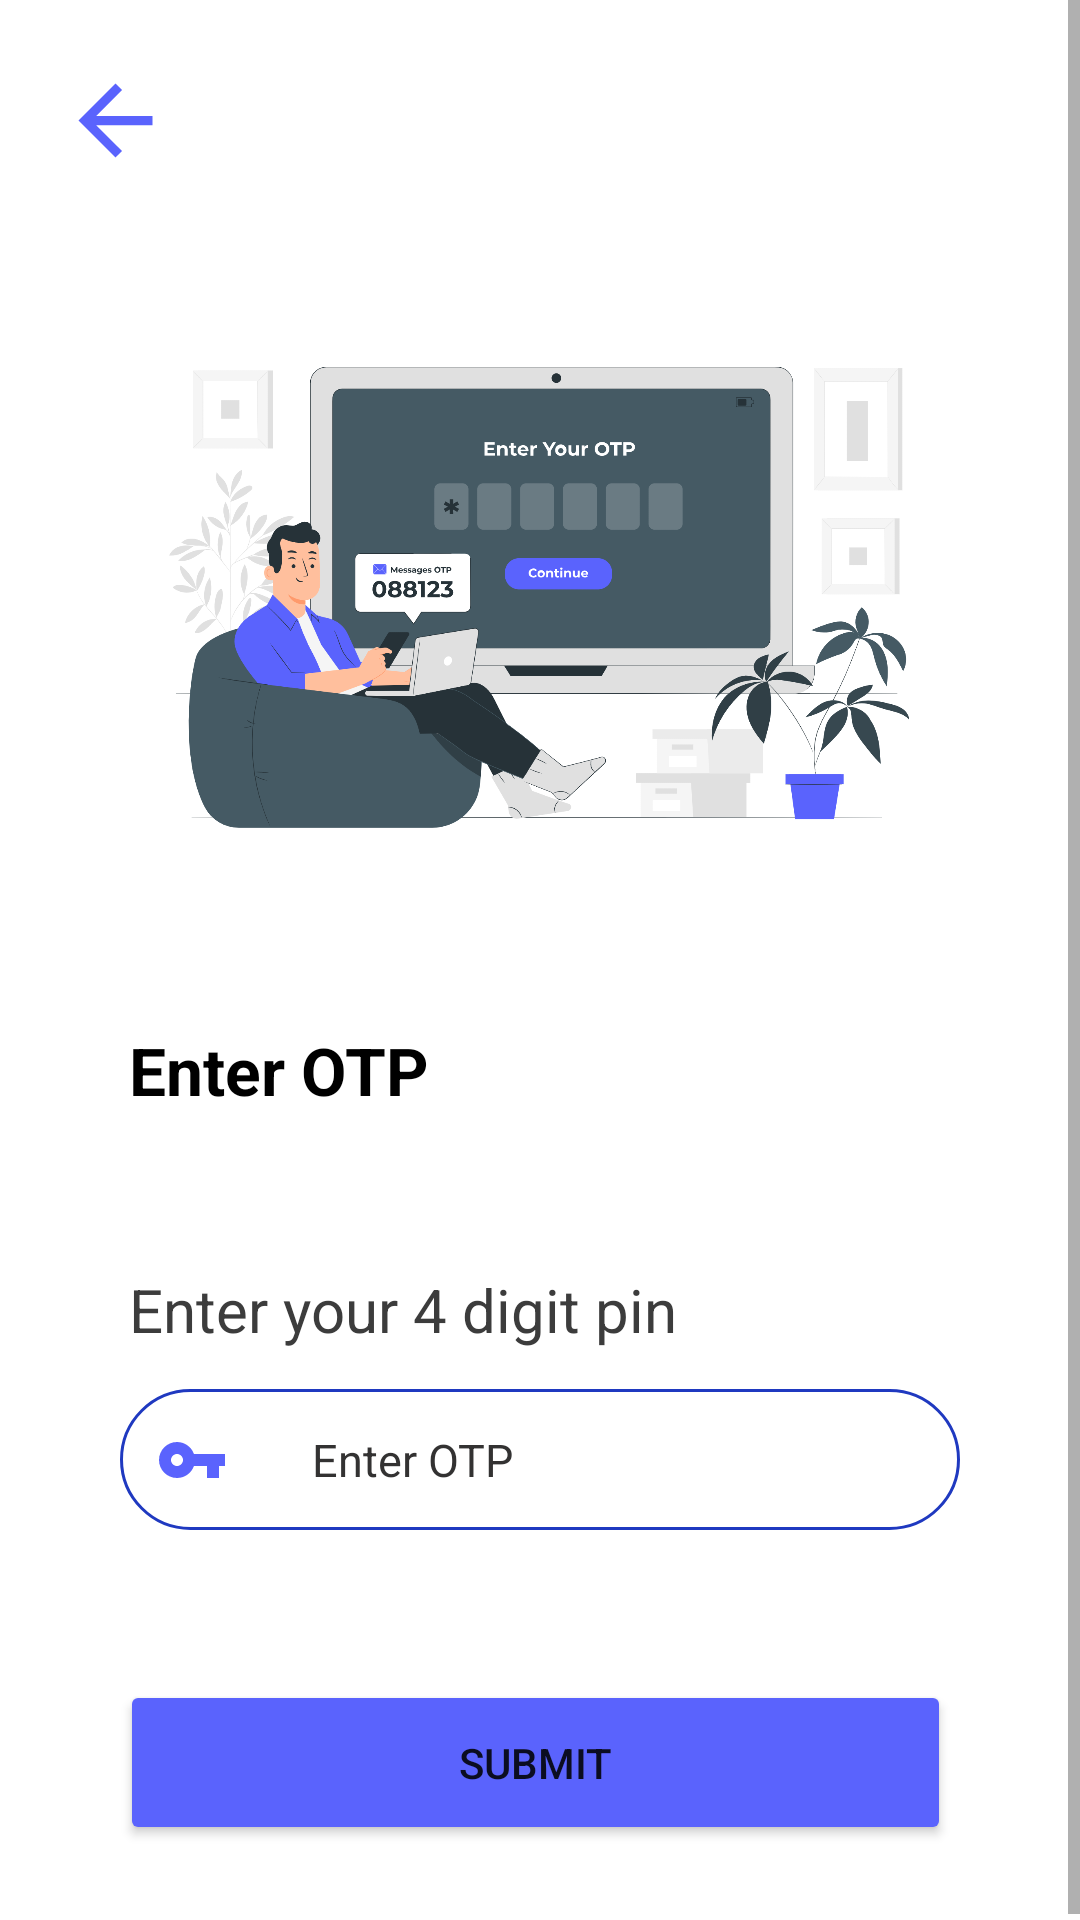

Where icons sit on this 1080w x 1920h app screen, as (x1, y1, x2, y2):
back: (78, 83, 153, 158)
